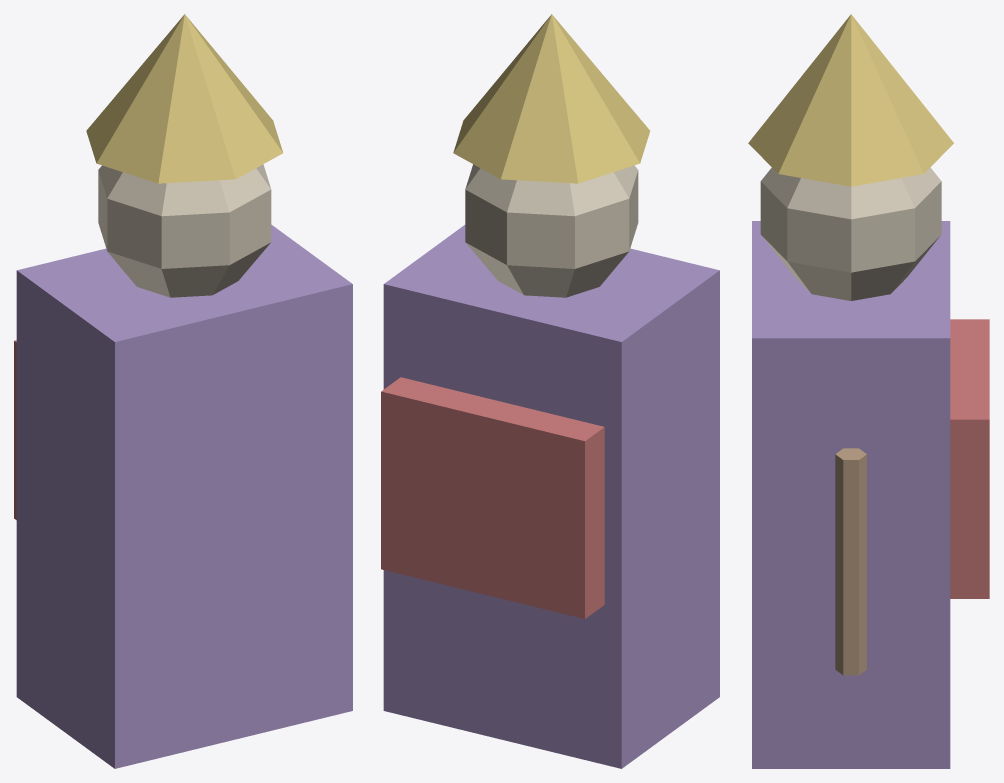
Rendered from kid_fantasia.glb.
3 renders of one model, left to right at view 1: azimuth 30°, elevation 25°; view 2: azimuth 150°, elevation 25°; view 3: azimuth 270°, elevation 25°, orthographic.
Parts seen in each view (by area): view 1: KID_FANTASIA_v01; view 2: KID_FANTASIA_v01; view 3: KID_FANTASIA_v01.
Boxes of the visible parts, box(x1,y1,x2,y2) form: KID_FANTASIA_v01: box(14, 14, 352, 768); KID_FANTASIA_v01: box(381, 14, 719, 768); KID_FANTASIA_v01: box(748, 14, 989, 768).
Bounding box in the file's own units: 0.3923 × 0.97 × 0.305.
